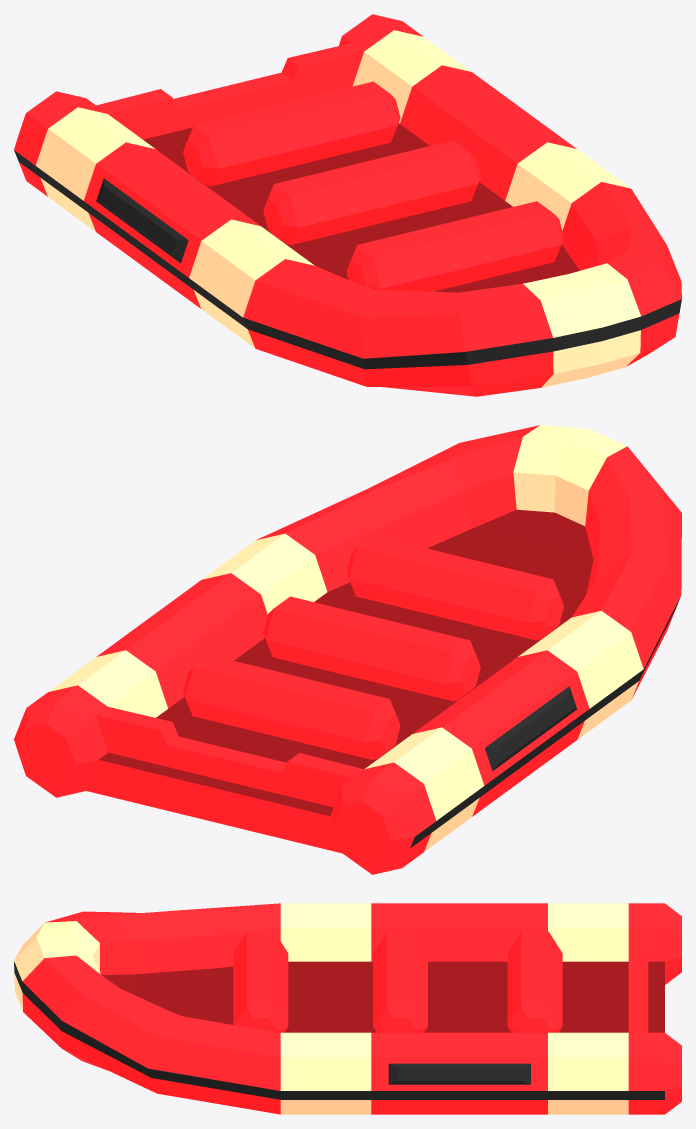
The model's file is Ship_Lifeboat.glb.
3 views of the same model, one above another, from view 1: azimuth 30°, elevation 25°; view 2: azimuth 150°, elevation 25°; view 3: azimuth 270°, elevation 25° (orthographic). The views are drawn at different scales.
Parts seen in each view (by area): view 1: Lifeboat; view 2: Lifeboat; view 3: Lifeboat.
Boxes of the visible parts, <box> form: Lifeboat: <box>14,14,681,396</box>; Lifeboat: <box>14,425,681,874</box>; Lifeboat: <box>14,903,681,1114</box>.
Size of the model in its own units: 64.71 by 20.9 by 111.
